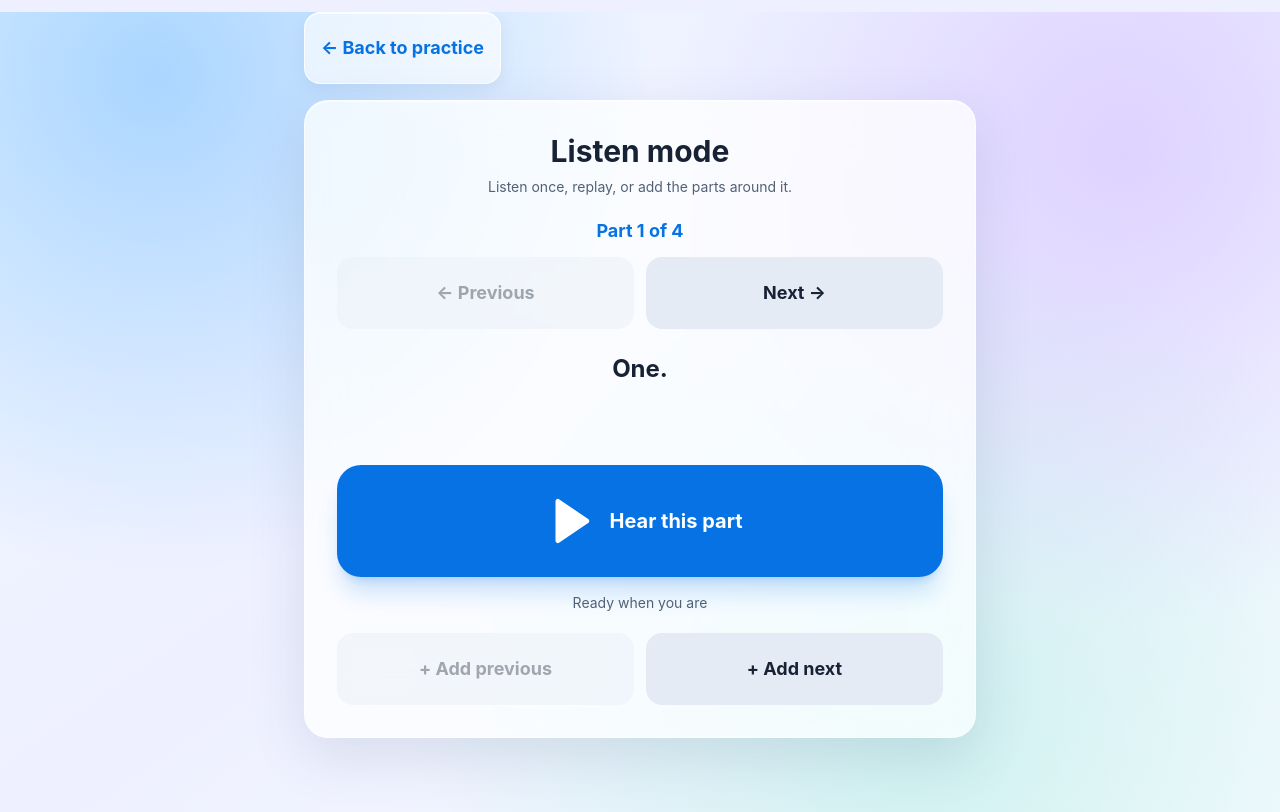
Test: Listen mode › navigates beyond the selected range and returns to a single part
Click the button "+ Add next" at (794, 669), box [646, 633, 943, 705]
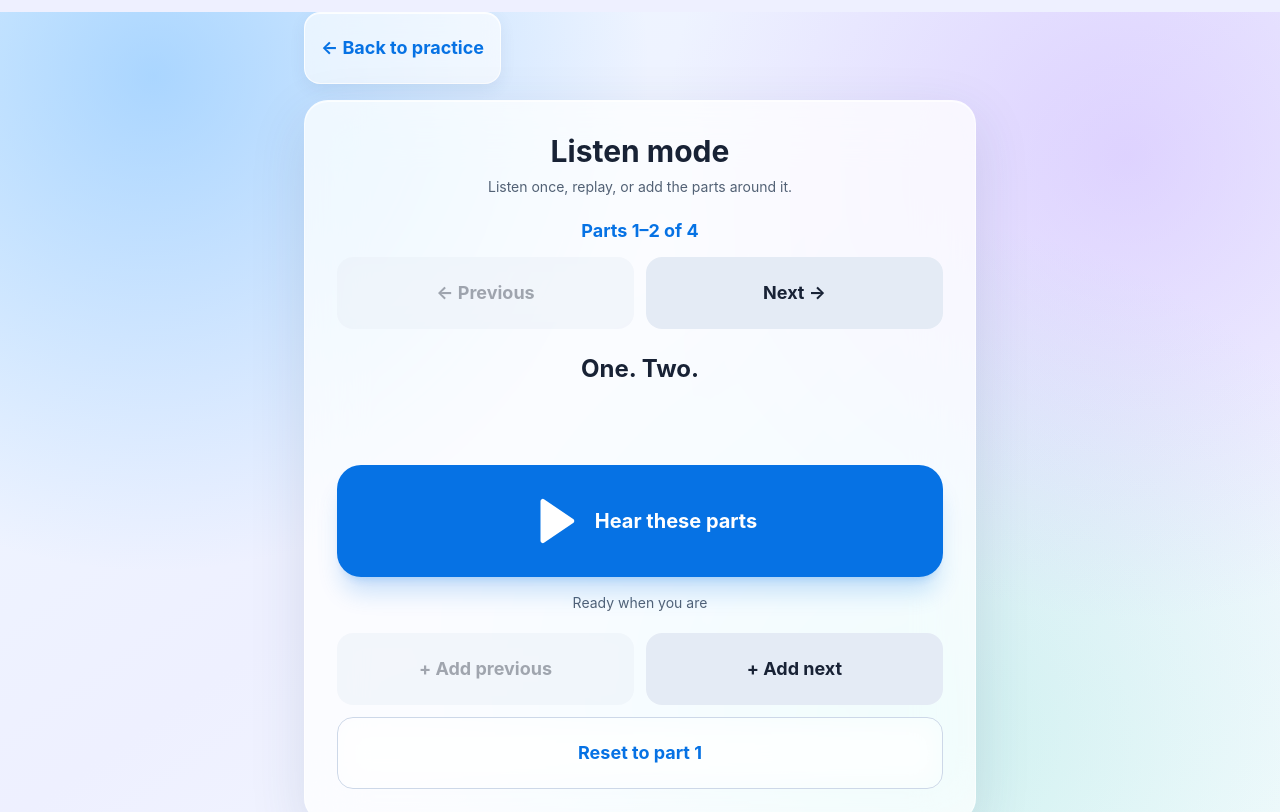
Click the button with aria-label "Next part" at (794, 293), box [646, 257, 943, 329]
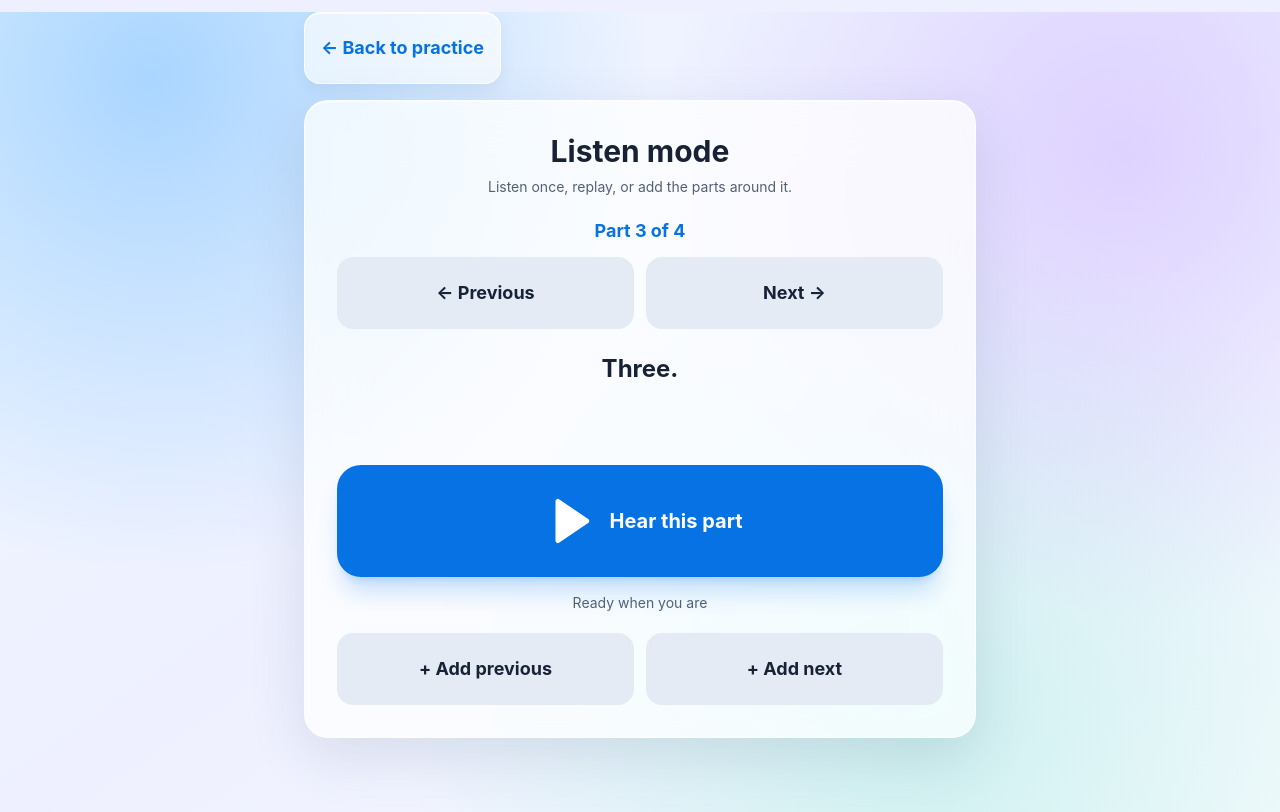
Expected: the text "Part 3 of 4" is shown, [594, 220, 686, 241]
Click the button "+ Add next" at (794, 669), box [646, 633, 943, 705]
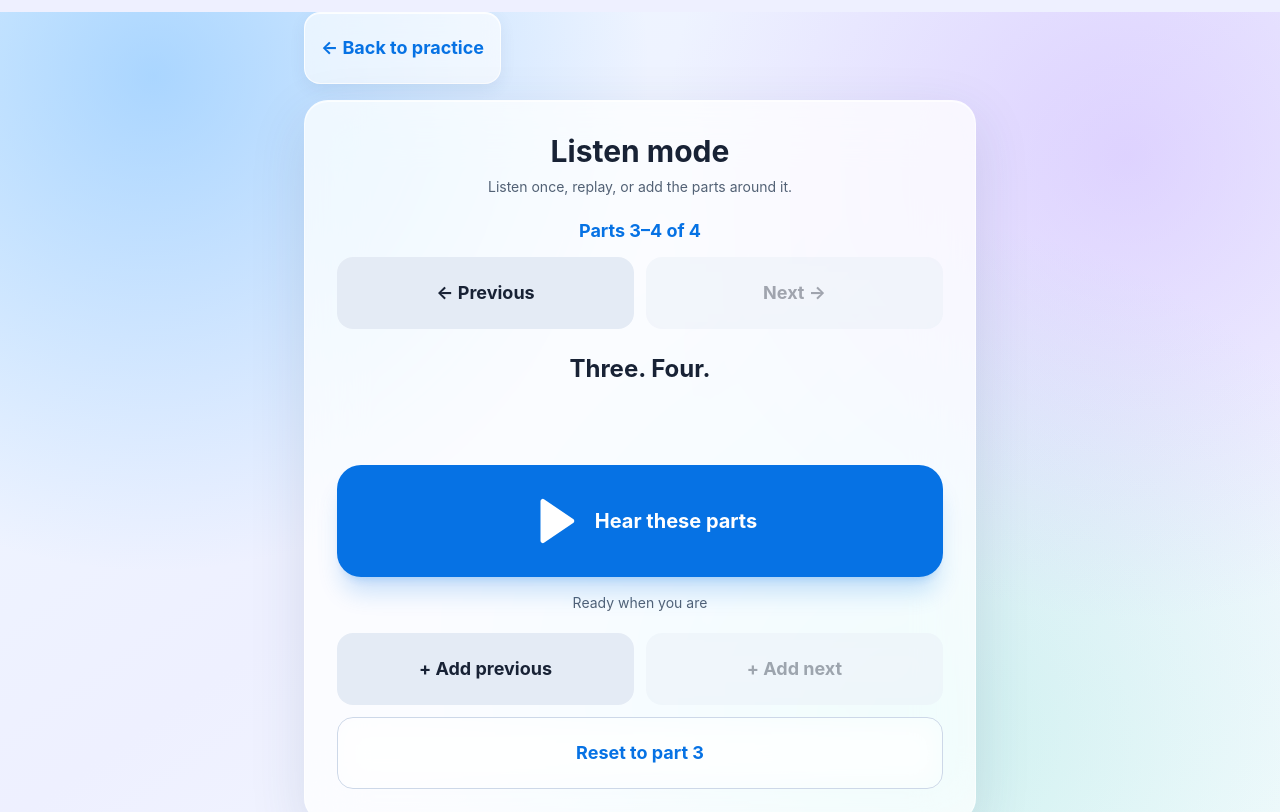
Click the button with aria-label "Previous part" at (486, 293), box [337, 257, 634, 329]
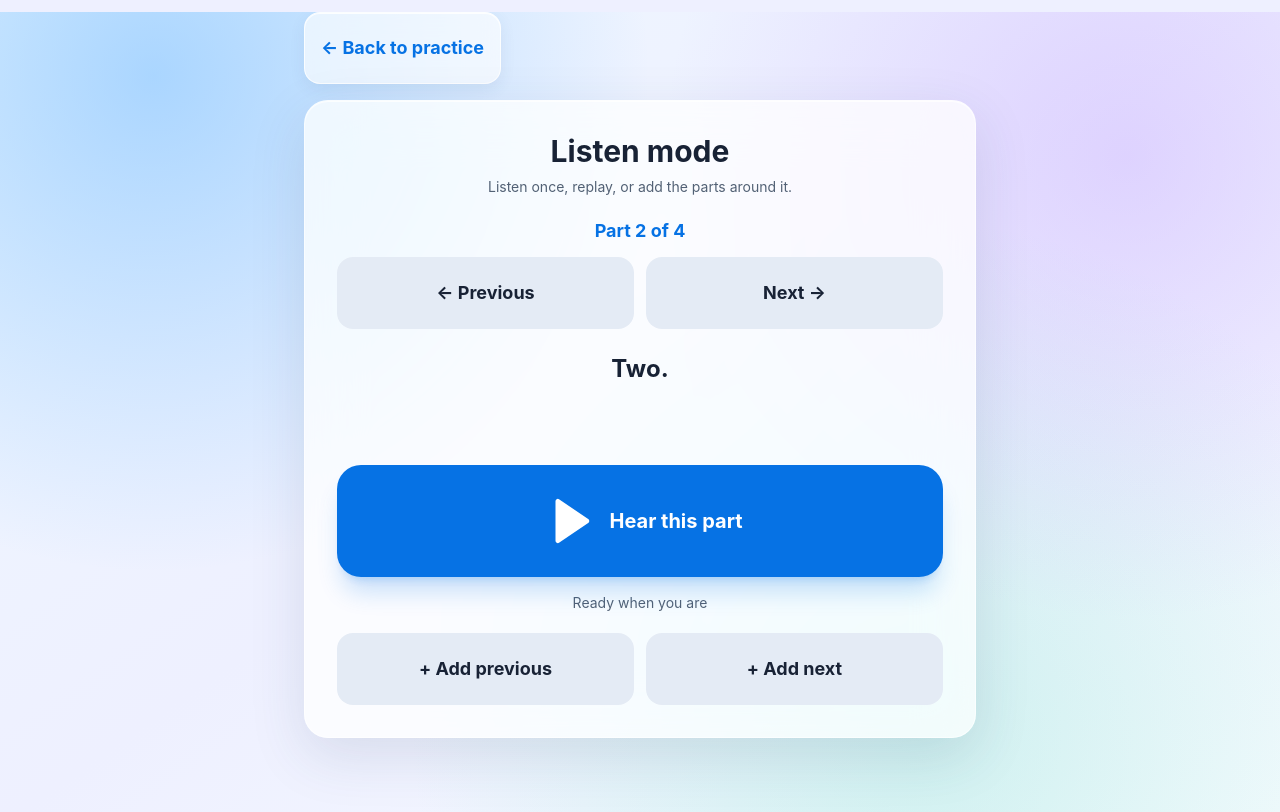
Expected: the text "Part 2 of 4" is shown, [595, 220, 685, 241]
